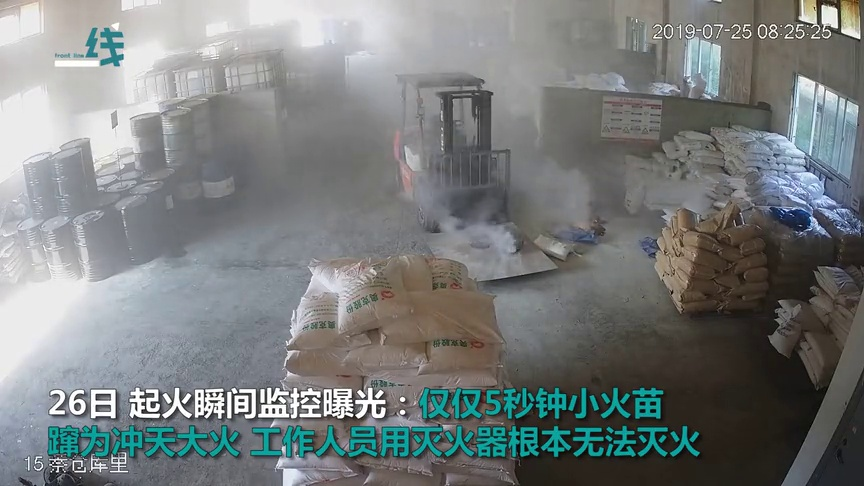smoke: (508, 148, 587, 226)
